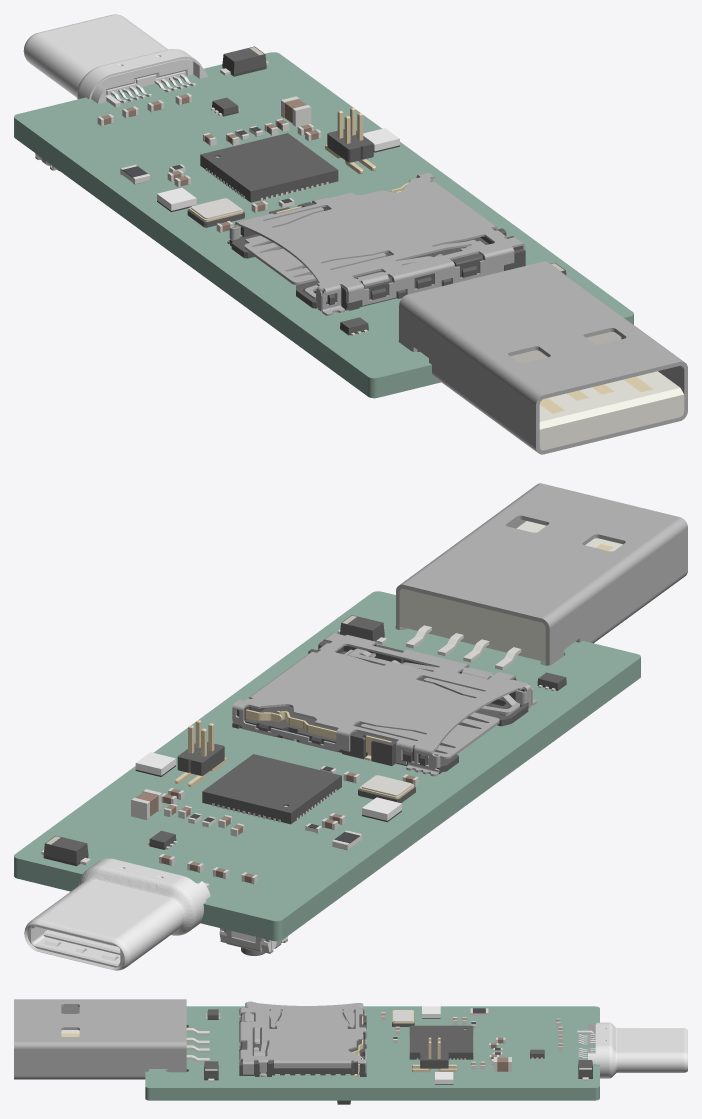
The model's file is hackducky.glb.
3 renders of one model, top to bottom at view 1: azimuth 30°, elevation 25°; view 2: azimuth 150°, elevation 25°; view 3: azimuth 270°, elevation 25°, orthographic. The views are drawn at different scales.
Visible parts, largest first — view 1: Node3, Node18, Node7, Node1, Node4, Node2, Node8, Node6, Node14; view 2: Node18, Node3, Node7, Node1, Node4, Node2, Node8, Node14, Node6; view 3: Node18, Node3, Node7, Node1, Node2, Node8, Node14, Node6, Node4.
Part boxes in pixels (x1,y1,x2,y2): Node3: [227, 172, 687, 454]; Node18: [14, 52, 633, 398]; Node7: [200, 46, 566, 335]; Node1: [23, 14, 207, 107]; Node4: [120, 128, 684, 450]; Node2: [97, 60, 367, 335]; Node8: [189, 107, 652, 413]; Node6: [101, 94, 318, 231]; Node14: [35, 128, 399, 210]; Node18: [14, 591, 640, 941]; Node3: [232, 483, 687, 776]; Node7: [43, 615, 566, 866]; Node1: [24, 858, 210, 970]; Node4: [195, 521, 622, 849]; Node2: [41, 625, 555, 884]; Node8: [175, 544, 613, 798]; Node14: [135, 752, 401, 951]; Node6: [136, 772, 415, 883]; Node18: [145, 1006, 599, 1100]; Node3: [14, 999, 366, 1079]; Node7: [204, 1009, 592, 1104]; Node1: [577, 1022, 687, 1078]; Node2: [186, 1008, 588, 1081]; Node8: [61, 1010, 456, 1076]; Node14: [422, 1006, 453, 1083]; Node6: [381, 1013, 562, 1071]; Node4: [61, 1013, 501, 1069].
Bounding box in the file's own units: 21.02 × 7.48 × 73.4.
